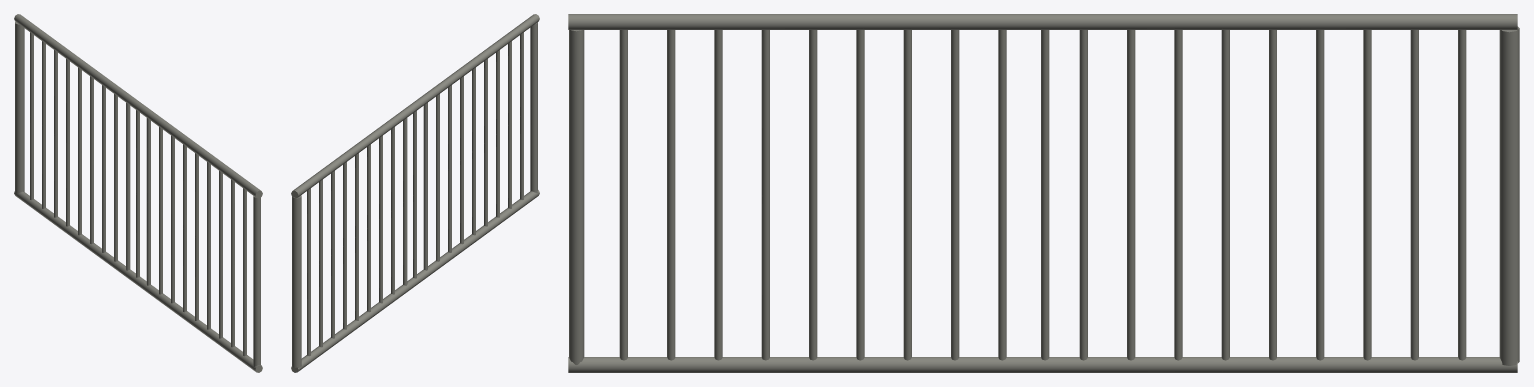
The model's file is fence_short.fbx.
3 renders of one model, left to right at view 1: azimuth 30°, elevation 25°; view 2: azimuth 150°, elevation 25°; view 3: azimuth 270°, elevation 25°, orthographic. The views are drawn at different scales.
Parts seen in each view (by area): view 1: fence_short; view 2: fence_short; view 3: fence_short.
Boxes of the visible parts, bbox=[...] form: fence_short: bbox=[14, 14, 262, 372]; fence_short: bbox=[291, 14, 539, 372]; fence_short: bbox=[568, 14, 1519, 372].
Size of the model in its own units: 4.56 by 90.37 by 217.
